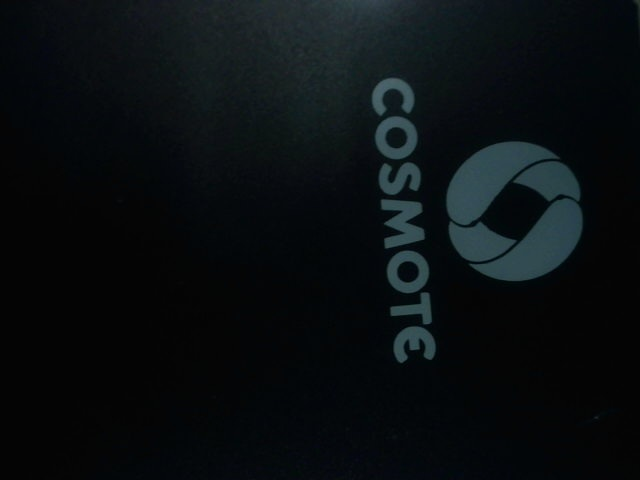AU_COSMOTE: (354, 68, 600, 361)
